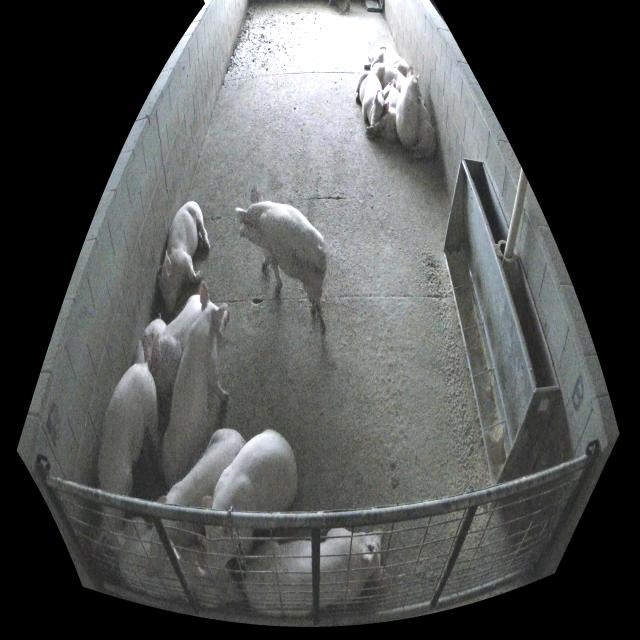pig: (146, 428, 246, 575), (202, 429, 298, 580), (162, 281, 230, 491), (236, 185, 327, 337), (243, 528, 384, 616), (117, 516, 244, 607), (98, 341, 161, 496), (158, 201, 210, 315), (149, 295, 202, 395), (366, 80, 401, 143), (356, 71, 389, 127), (396, 75, 419, 150), (410, 97, 436, 158), (364, 45, 412, 77), (143, 314, 166, 363), (372, 63, 404, 94)
